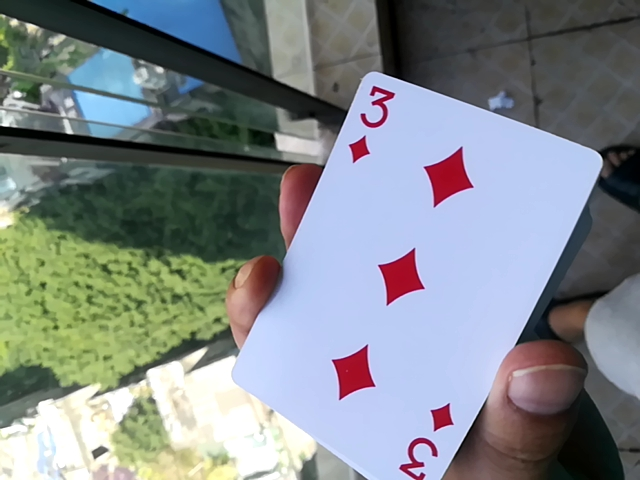fk 3: (206, 70, 606, 480)
